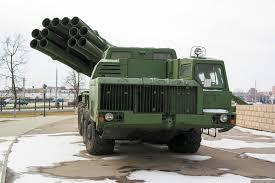MIL_SAM_TEL: (26, 15, 237, 161)
